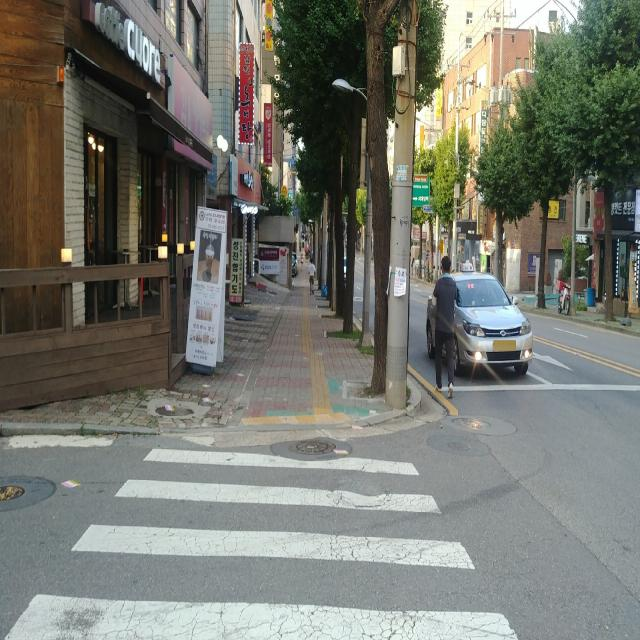횡단보도: (0, 442, 520, 640)
